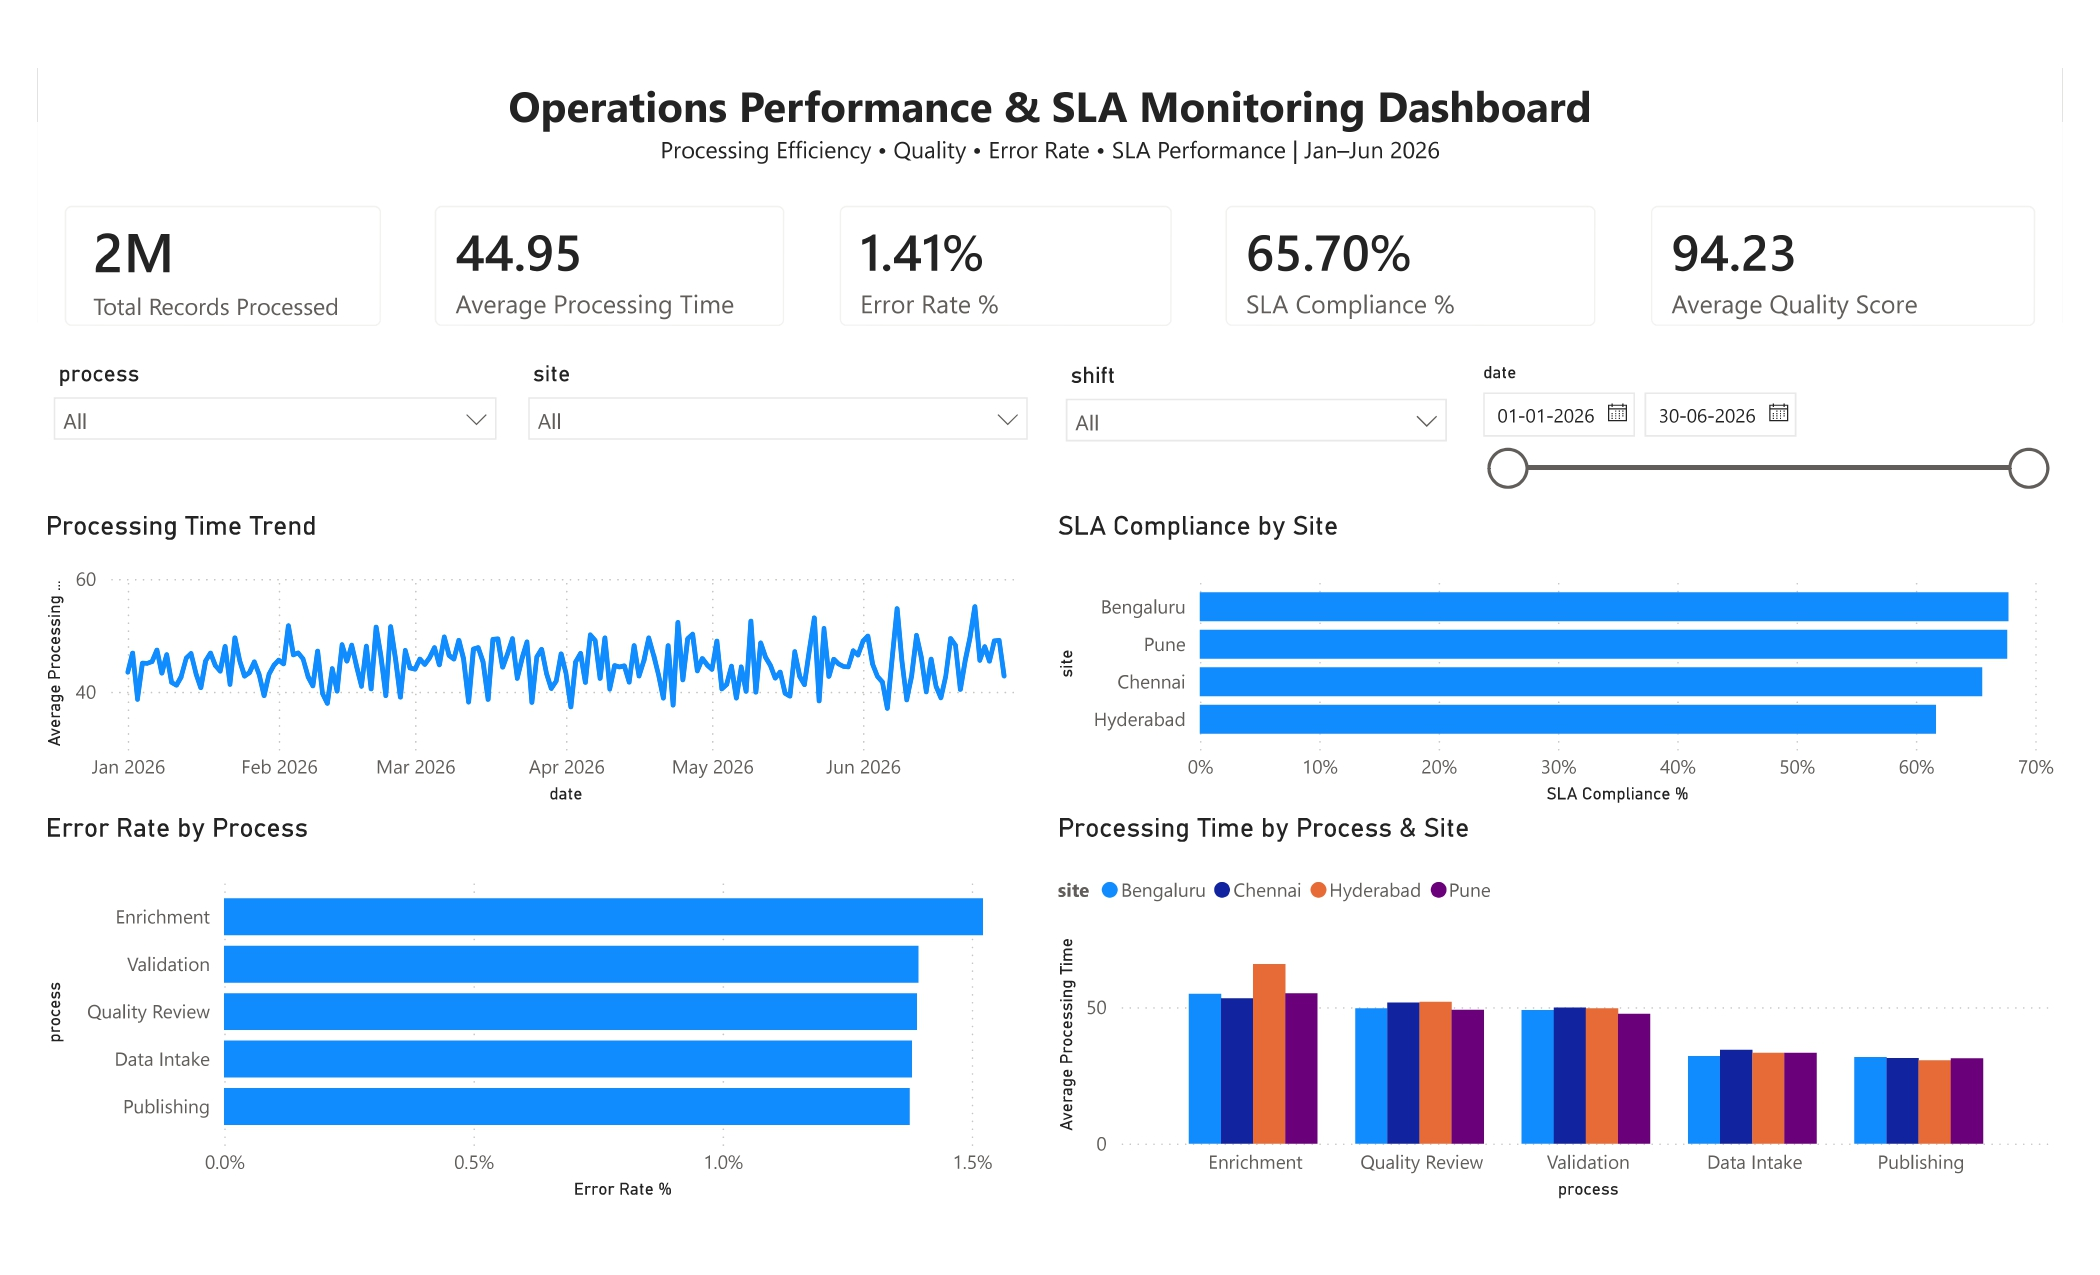

The dashboard page shown, as its layout file describes it:
{"tool":"powerbi","page":{"name":"Page 1","canvas":[1280,720],"ordinal":0},"visuals":[{"type":"cardVisual","fields":{"Data":["operations_clean.Total Records Processed"]},"box":[0,70,234.3,110],"z":0},{"type":"cardVisual","fields":{"Data":["operations_clean.Average Processing Time"]},"box":[234.3,70,255.7,110],"z":1000},{"type":"cardVisual","fields":{"Data":["operations_clean.Error Rate %"]},"box":[490,70,244.3,110],"z":2000},{"type":"cardVisual","fields":{"Data":["operations_clean.SLA Compliance %"]},"box":[734.3,70,268.6,110],"z":3000},{"type":"cardVisual","fields":{"Data":["operations_clean.Average Quality Score"]},"box":[1002.9,70,277.1,110],"z":4000},{"type":"lineChart","title":"Processing Time Trend","fields":{"Y":["operations_clean.Average Processing Time"],"Category":["operations_clean.date"]},"box":[0,278.6,640,191.4],"z":5000},{"type":"clusteredBarChart","title":"SLA Compliance by Site","fields":{"Category":["operations_clean.site"],"Y":["operations_clean.SLA Compliance %"]},"box":[640,278.6,640,191.4],"z":6000},{"type":"clusteredBarChart","title":"Error Rate by Process","fields":{"Category":["operations_clean.process"],"Y":["operations_clean.Error Rate %"]},"box":[0,470,640,250],"z":7000},{"type":"clusteredColumnChart","title":"Processing Time by Process & Site","fields":{"Category":["operations_clean.process"],"Y":["operations_clean.Average Processing Time"],"Series":["operations_clean.site"]},"box":[640,470,640,250],"z":8000},{"type":"slicer","fields":{"Values":["operations_clean.site"]},"box":[300,180,335.7,98.6],"z":9000},{"type":"slicer","fields":{"Values":["operations_clean.process"]},"box":[0,180,300,98.6],"z":10000},{"type":"slicer","fields":{"Values":["operations_clean.shift"]},"box":[640,181.4,261.4,97.1],"z":11000},{"type":"slicer","fields":{"Values":["operations_clean.date"]},"box":[901.4,181.4,378.6,97.1],"z":12000},{"type":"textbox","box":[0,0,1280,70],"z":12001}]}

Visuals, with their boxes on the page's 1280x720 design canvas (x1, y1, x2, y2). These are canvas units, not pixel positions in the 2100x1275 screenshot, which may show the page scaled, cropped or inside an application window:
cardVisual - operations_clean.Total Records Processed: BBox(0, 70, 234, 180)
cardVisual - operations_clean.Average Processing Time: BBox(234, 70, 490, 180)
cardVisual - operations_clean.Error Rate %: BBox(490, 70, 734, 180)
cardVisual - operations_clean.SLA Compliance %: BBox(734, 70, 1003, 180)
cardVisual - operations_clean.Average Quality Score: BBox(1003, 70, 1280, 180)
"Processing Time Trend" lineChart: BBox(0, 279, 640, 470)
"SLA Compliance by Site" clusteredBarChart: BBox(640, 279, 1280, 470)
"Error Rate by Process" clusteredBarChart: BBox(0, 470, 640, 720)
"Processing Time by Process & Site" clusteredColumnChart: BBox(640, 470, 1280, 720)
slicer - operations_clean.site: BBox(300, 180, 636, 279)
slicer - operations_clean.process: BBox(0, 180, 300, 279)
slicer - operations_clean.shift: BBox(640, 181, 901, 278)
slicer - operations_clean.date: BBox(901, 181, 1280, 278)
textbox: BBox(0, 0, 1280, 70)
